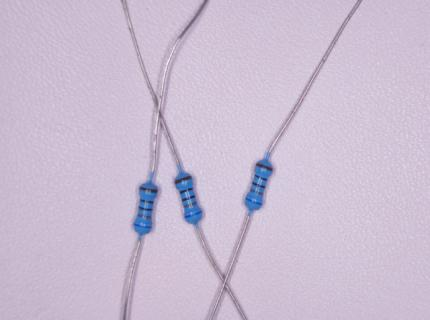Black band: (179, 187, 194, 194), (252, 181, 265, 189), (255, 174, 268, 181), (181, 195, 196, 201), (140, 199, 154, 204), (139, 206, 152, 211)
Blue band: (184, 210, 202, 219), (246, 197, 263, 205), (134, 223, 152, 228)
Brown band: (255, 162, 273, 172), (175, 176, 192, 184), (139, 186, 158, 193)
Grey band: (250, 188, 264, 196), (183, 201, 197, 208), (137, 214, 151, 219)
